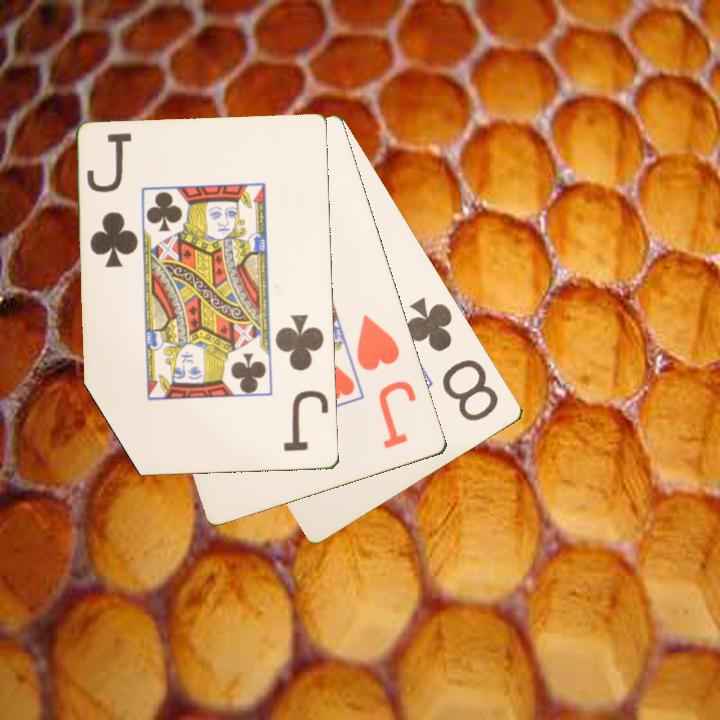8c: (402, 293, 503, 425)
Jc: (272, 311, 332, 454), (84, 130, 142, 271)
Jh: (353, 311, 420, 452)
